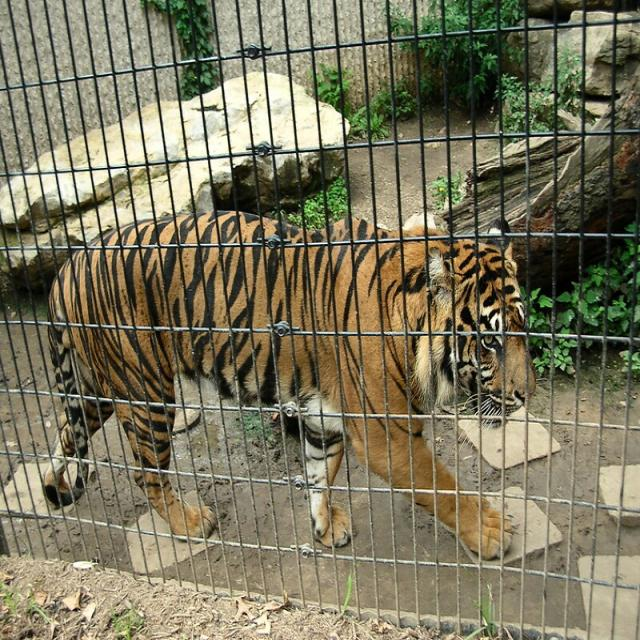Tiger: (41, 206, 537, 562)
